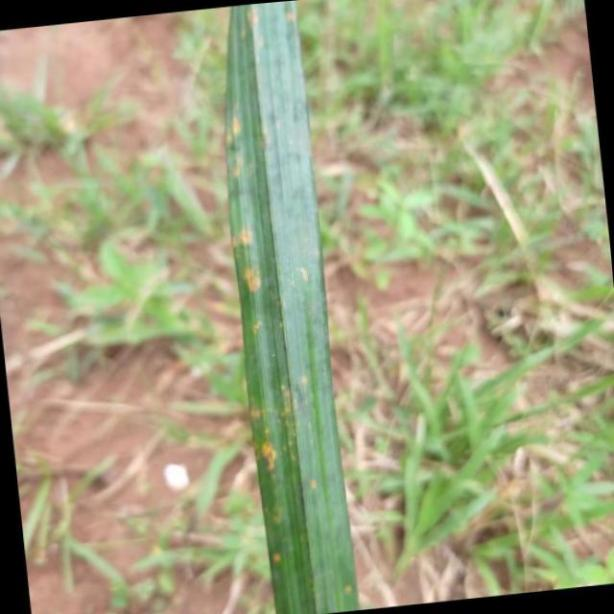Kalium: (212, 0, 359, 614)
